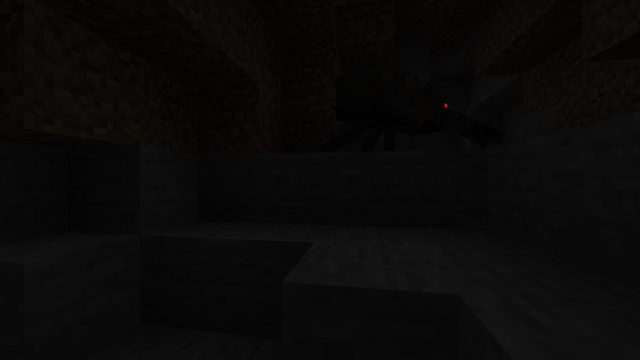araignees: (346, 50, 487, 153)
